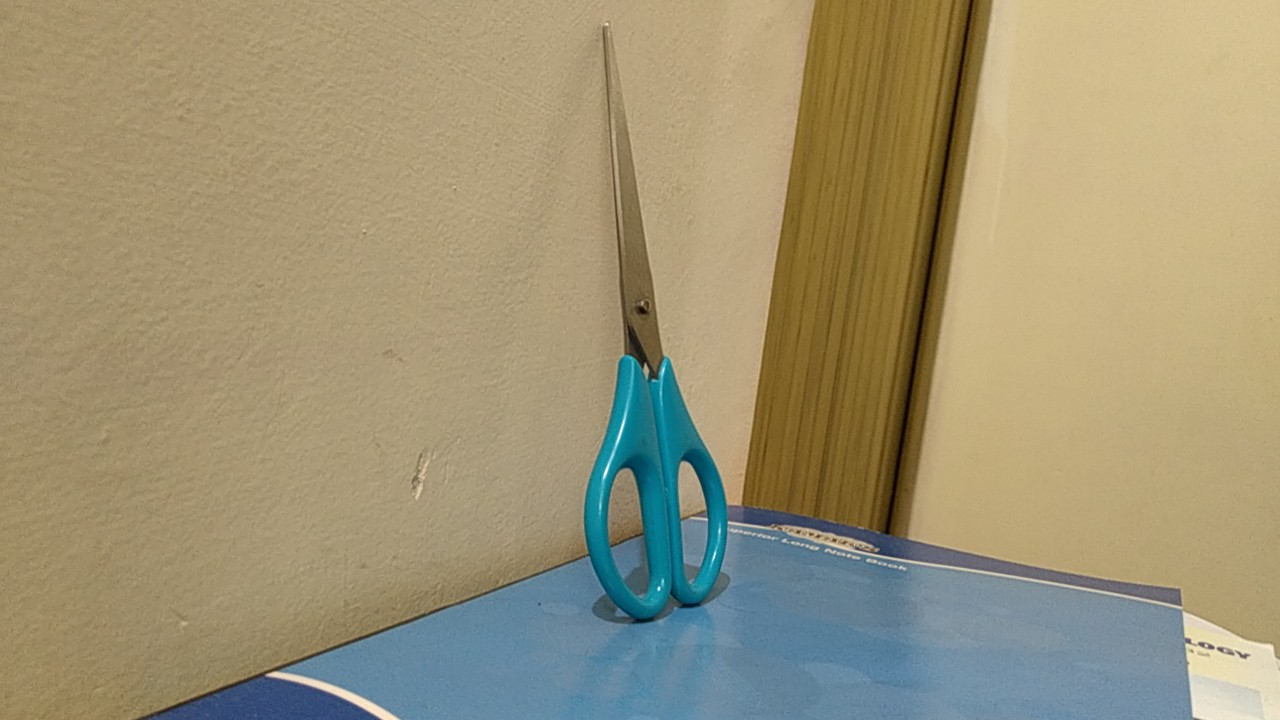scissor: (568, 9, 745, 639)
